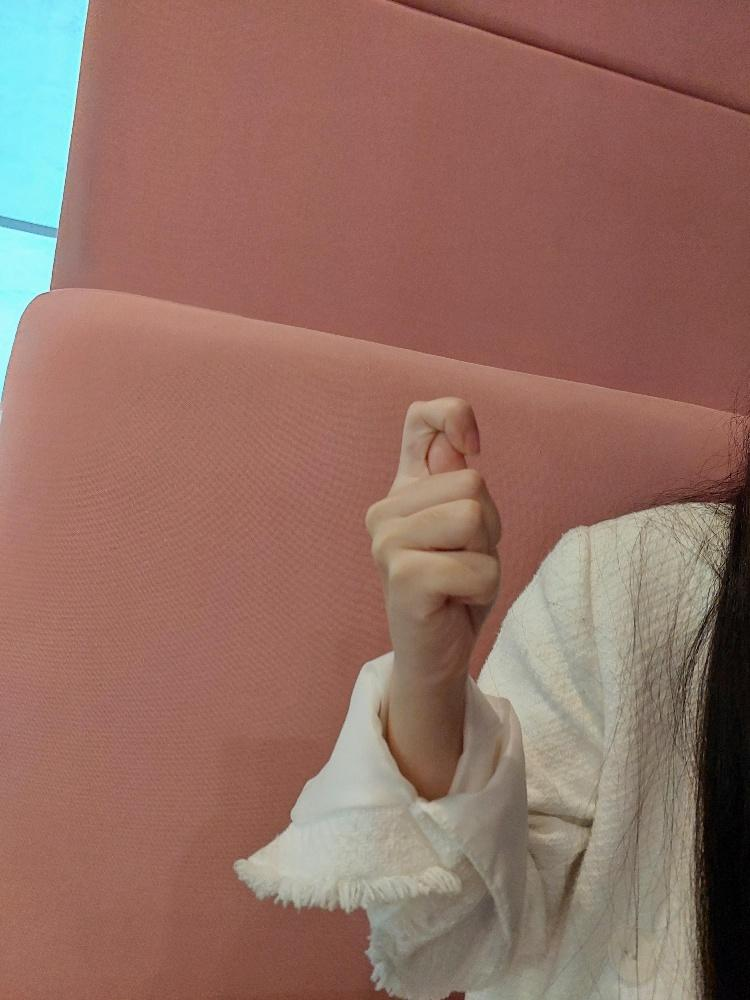t: (364, 397, 501, 661)
